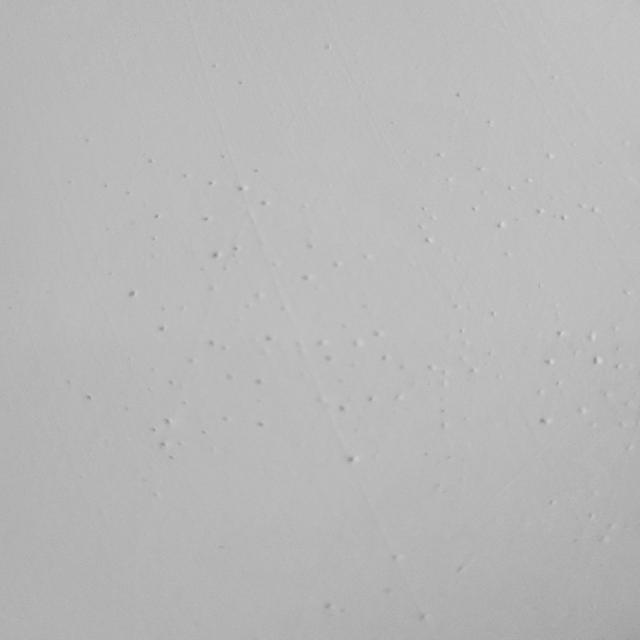rough and patchy surface: (5, 6, 628, 628)
